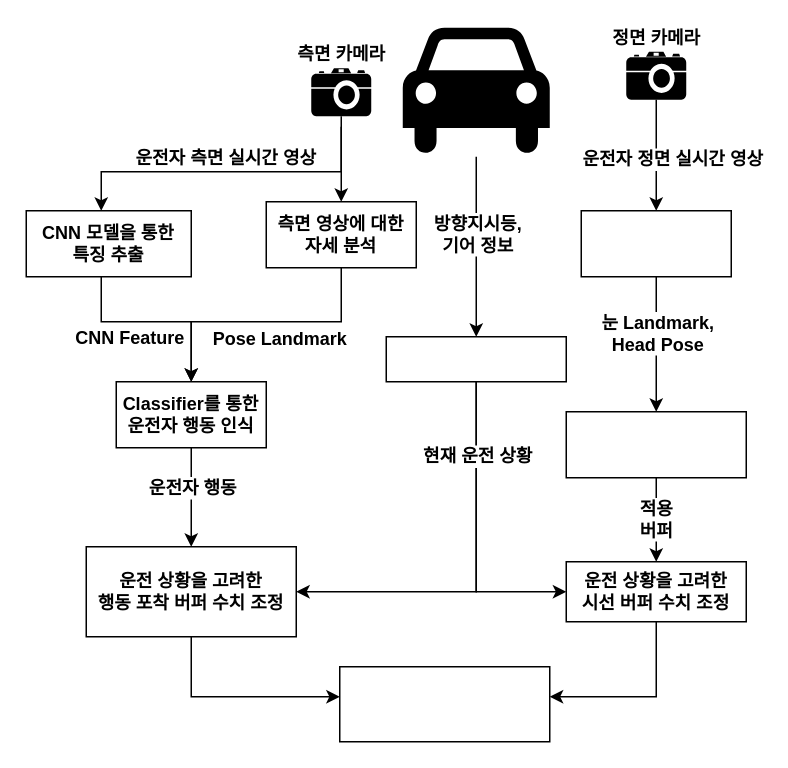
The diagram is 788 pixels wide and 768 high, and some of its shapes have lost their labels. Here are the shapes that lost their labels. From the top down, the centre of each, then its label:
pixel 655 243: 눈 Landmark 및 Head Pose 분석
pixel 475 358: 현재 운전 상황 인식
pixel 655 444: 현재 시선이 위치한 버퍼 파악
pixel 444 703: 버퍼 수치를 통한 운전자 주의 산만 수치 파악
